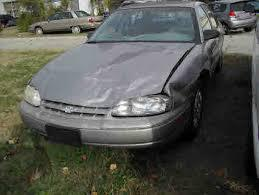bonnet-dent: (68, 40, 165, 97)
fender-dent: (180, 49, 210, 89)
